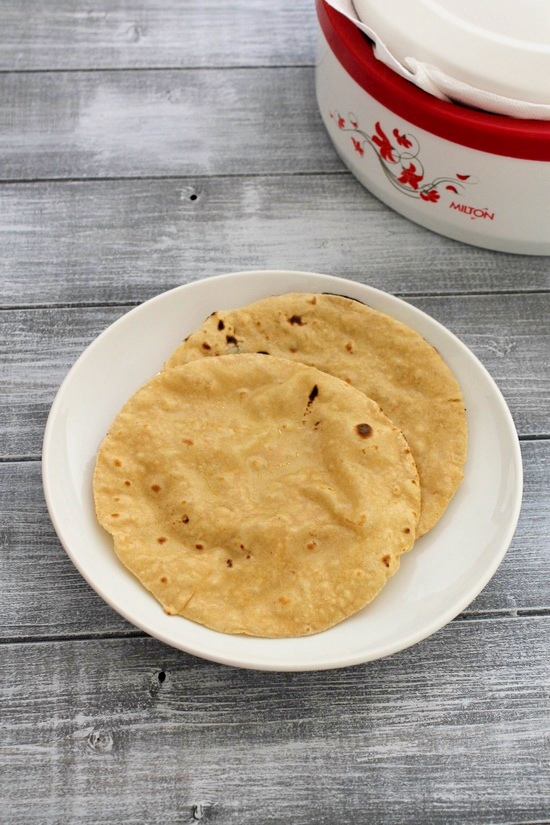roti: (85, 358, 424, 636), (186, 295, 471, 574)
